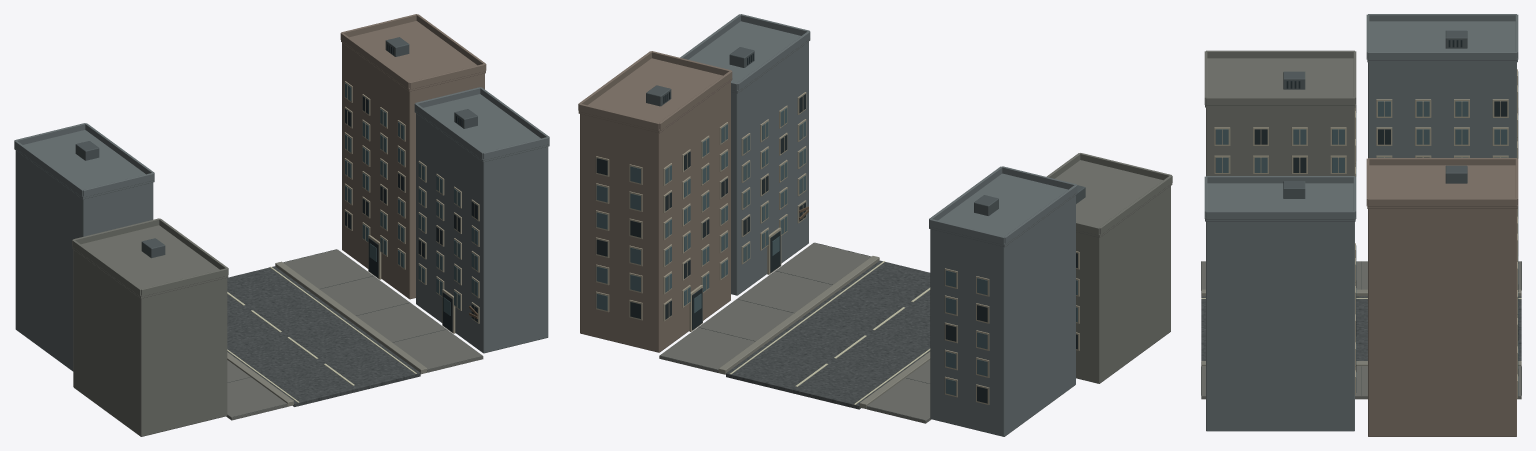
File: city_block_a.glb
3 renders of one model, left to right at view 1: azimuth 30°, elevation 25°; view 2: azimuth 150°, elevation 25°; view 3: azimuth 270°, elevation 25°, orthographic. The views are drawn at different scales.
Visible parts, largest first — view 1: CITY_wall_6b7476, CITY_wall_74766f, CITY_wall_82766b, CITY_asphalt_comic, CITY_sidewalk, CITY_roof_6b7476, CITY_roof_74766f, CITY_window_frame, CITY_roof_82766b, CITY_window_glass, CITY_curb, CITY_window_ink (+2 smaller); view 2: CITY_wall_6b7476, CITY_wall_82766b, CITY_asphalt_comic, CITY_wall_74766f, CITY_sidewalk, CITY_window_frame, CITY_roof_6b7476, CITY_window_glass, CITY_roof_82766b, CITY_roof_74766f, CITY_window_ink, CITY_curb (+2 smaller); view 3: CITY_wall_6b7476, CITY_wall_82766b, CITY_wall_74766f, CITY_roof_6b7476, CITY_roof_74766f, CITY_roof_82766b, CITY_window_frame, CITY_window_glass, CITY_painted_metal, CITY_asphalt_comic, CITY_sidewalk, CITY_window_ink.
Part boxes in pixels (<box>): CITY_wall_6b7476: <box>14,87,549,371</box>; CITY_wall_74766f: <box>72,218,228,436</box>; CITY_wall_82766b: <box>340,14,486,299</box>; CITY_asphalt_comic: <box>227,266,420,406</box>; CITY_sidewalk: <box>226,249,483,420</box>; CITY_roof_6b7476: <box>14,94,549,199</box>; CITY_roof_74766f: <box>72,225,228,298</box>; CITY_window_frame: <box>344,81,479,333</box>; CITY_roof_82766b: <box>341,21,485,91</box>; CITY_window_glass: <box>345,83,477,315</box>; CITY_curb: <box>227,261,427,406</box>; CITY_window_ink: <box>345,44,477,331</box>; CITY_wall_6b7476: <box>680,14,1077,436</box>; CITY_wall_82766b: <box>578,51,732,352</box>; CITY_asphalt_comic: <box>726,260,930,409</box>; CITY_wall_74766f: <box>1046,153,1172,383</box>; CITY_sidewalk: <box>659,243,931,423</box>; CITY_window_frame: <box>595,92,1079,404</box>; CITY_roof_6b7476: <box>688,21,1077,247</box>; CITY_window_glass: <box>596,108,1077,395</box>; CITY_roof_82766b: <box>578,58,732,133</box>; CITY_roof_74766f: <box>1055,160,1172,237</box>; CITY_window_ink: <box>596,53,1077,403</box>; CITY_curb: <box>718,256,930,408</box>; CITY_wall_6b7476: <box>1204,14,1518,431</box>; CITY_wall_82766b: <box>1366,158,1518,436</box>; CITY_wall_74766f: <box>1204,50,1356,175</box>; CITY_roof_6b7476: <box>1205,21,1517,221</box>; CITY_roof_74766f: <box>1205,58,1355,107</box>; CITY_roof_82766b: <box>1367,165,1517,208</box>; CITY_window_frame: <box>1214,69,1517,398</box>; CITY_window_glass: <box>1215,71,1518,396</box>; CITY_painted_metal: <box>1283,30,1467,198</box>; CITY_asphalt_comic: <box>1201,296,1521,360</box>; CITY_sidewalk: <box>1201,261,1521,399</box>; CITY_window_ink: <box>1254,40,1518,375</box>.
Bounding box in the file's own units: 26.6 × 13.7 × 16.03.
Materials: 16 (1 with a texture image).
